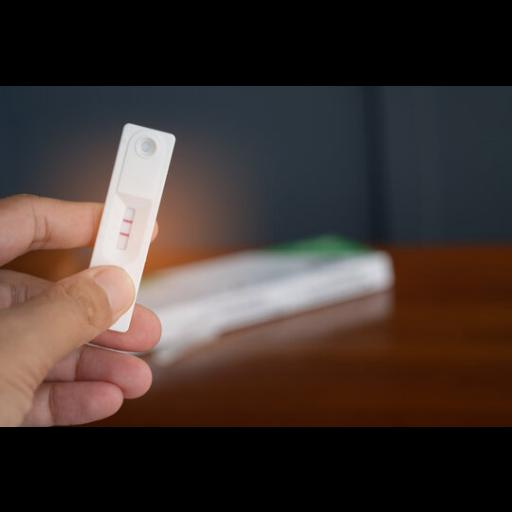Pos: (73, 122, 177, 331)
